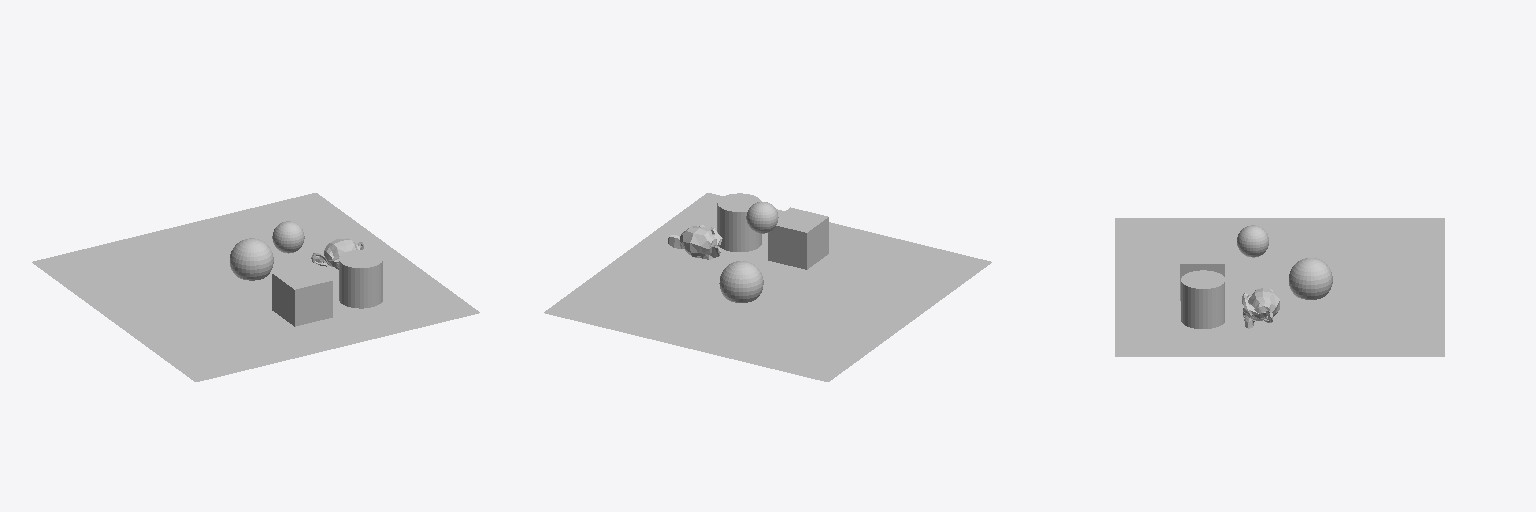
Rendered from shadow.obj.
3 views of the same model, side by side, from view 1: azimuth 30°, elevation 25°; view 2: azimuth 150°, elevation 25°; view 3: azimuth 270°, elevation 25° (orthographic).
Visible parts, largest first — view 1: Plane, Cube_Cube.001, Cylinder, Sphere, Sphere.001, Suzanne; view 2: Plane, Cube_Cube.001, Cylinder, Sphere, Suzanne, Sphere.001; view 3: Plane, Cylinder, Sphere, Cube_Cube.001, Suzanne, Sphere.001.
Boxes of the visible parts, x1,y1,x2,y2 form: Plane: [32, 193, 479, 381]; Cube_Cube.001: [272, 264, 332, 326]; Cylinder: [339, 250, 382, 308]; Sphere: [230, 238, 273, 280]; Sphere.001: [272, 221, 304, 253]; Suzanne: [311, 238, 363, 269]; Plane: [544, 193, 991, 381]; Cube_Cube.001: [768, 207, 828, 269]; Cylinder: [717, 193, 761, 251]; Sphere: [719, 261, 763, 302]; Suzanne: [668, 225, 722, 259]; Sphere.001: [746, 202, 778, 233]; Plane: [1115, 218, 1444, 356]; Cylinder: [1181, 270, 1224, 328]; Sphere: [1289, 258, 1332, 299]; Cube_Cube.001: [1180, 245, 1224, 300]; Suzanne: [1242, 288, 1279, 328]; Sphere.001: [1237, 225, 1268, 257].
Size of the model in its own units: 14.84 by 3.83 by 14.84.